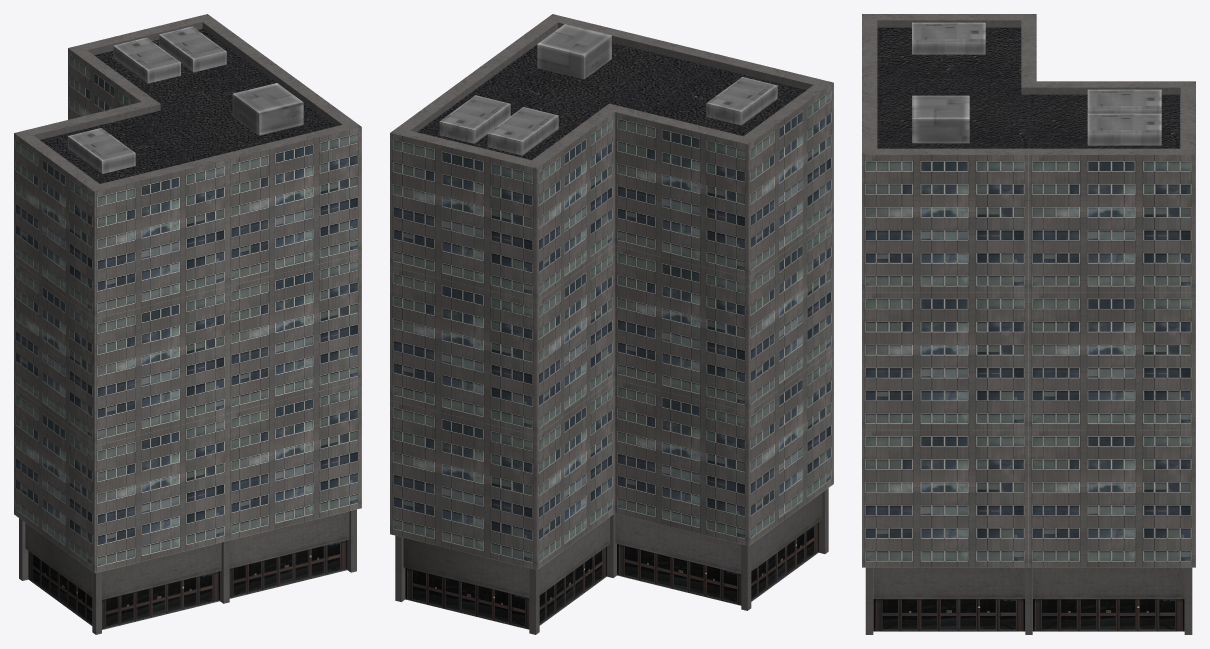
The model's file is si_building_10.fbx.
The picture shows the model from 3 angles, left to right: view 1: azimuth 30°, elevation 25°; view 2: azimuth 150°, elevation 25°; view 3: azimuth 270°, elevation 25°; orthographic projection. The views are drawn at different scales.
Visible parts, largest first — view 1: si_building_10; view 2: si_building_10; view 3: si_building_10.
Boxes of the visible parts, x1=… form: si_building_10: x1=14, y1=14, x2=361, y2=634; si_building_10: x1=390, y1=14, x2=833, y2=634; si_building_10: x1=862, y1=14, x2=1195, y2=634.
Size of the model in its own units: 88 by 145 by 88.
Materials: 1 (1 with a texture image).
